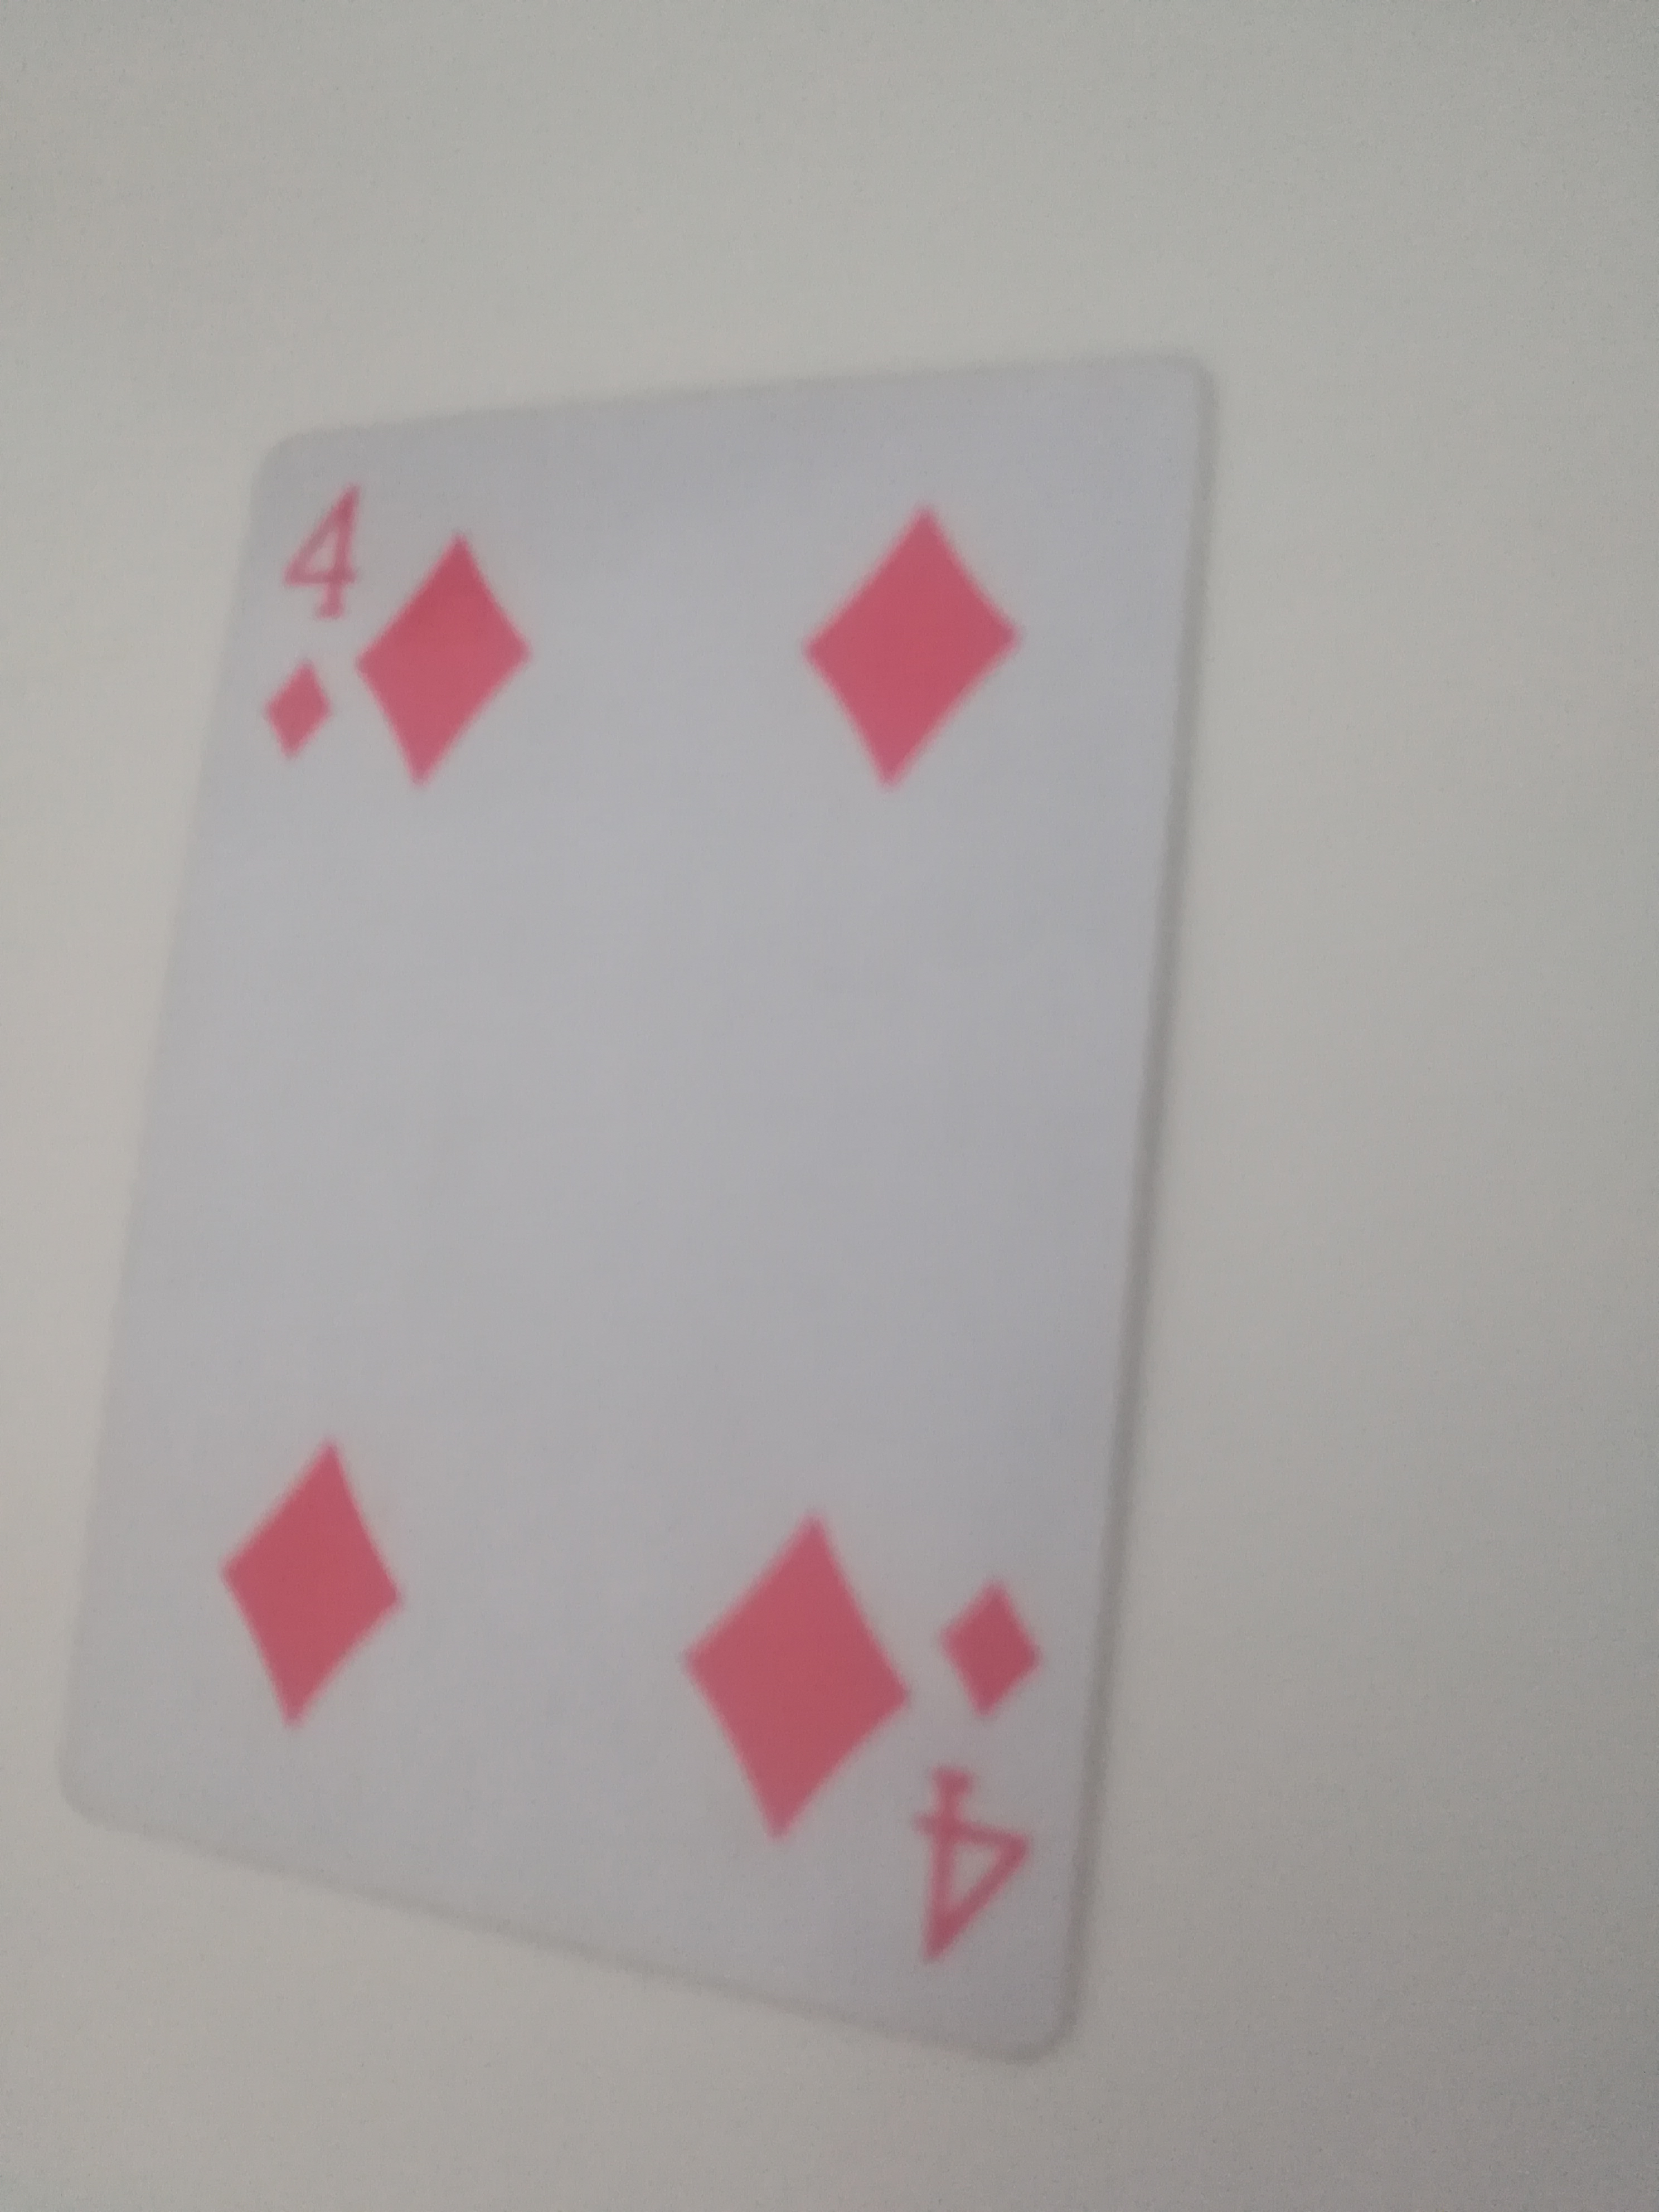4D: (33, 343, 1222, 2073)
